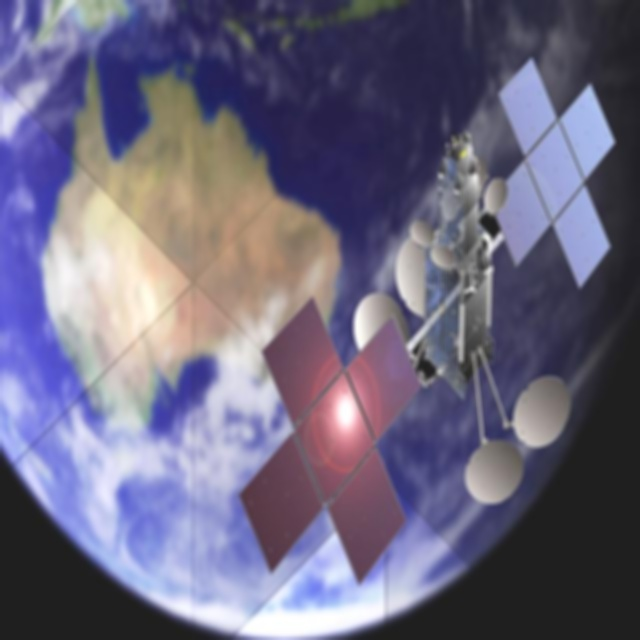medium_debris: (229, 1, 632, 610)
